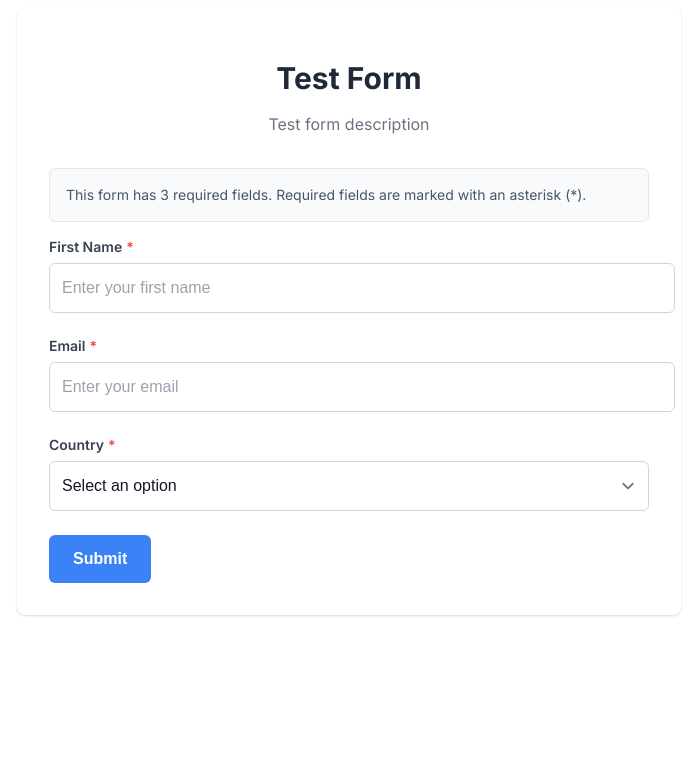
Form Component › shows success message after successful submission
The width and height of the screenshot is (699, 768).
Type "John" into the field labelled "First Name*" at (362, 288), box top-left (49, 263), bottom-right (675, 313)
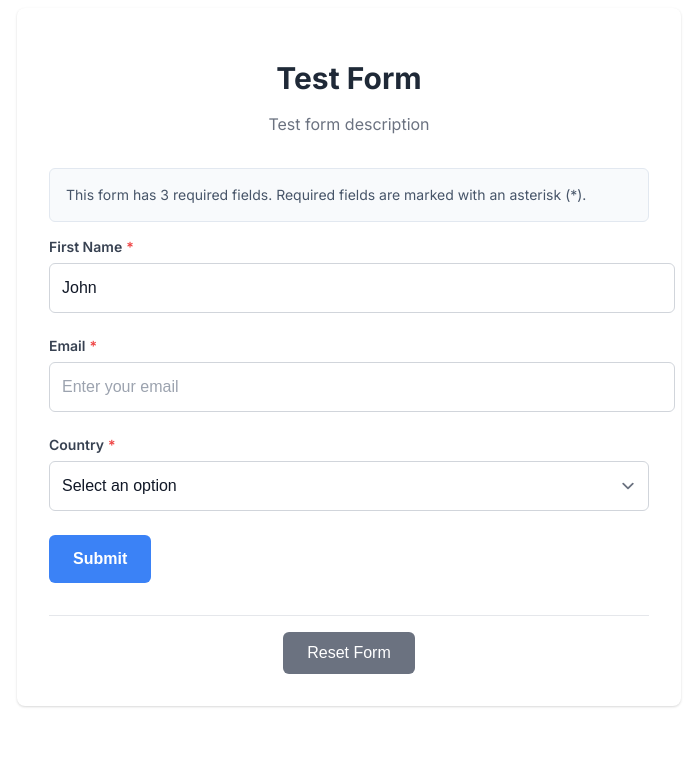
Type "john@example.com" into the field labelled "Email*" at (362, 387), box top-left (49, 362), bottom-right (675, 412)
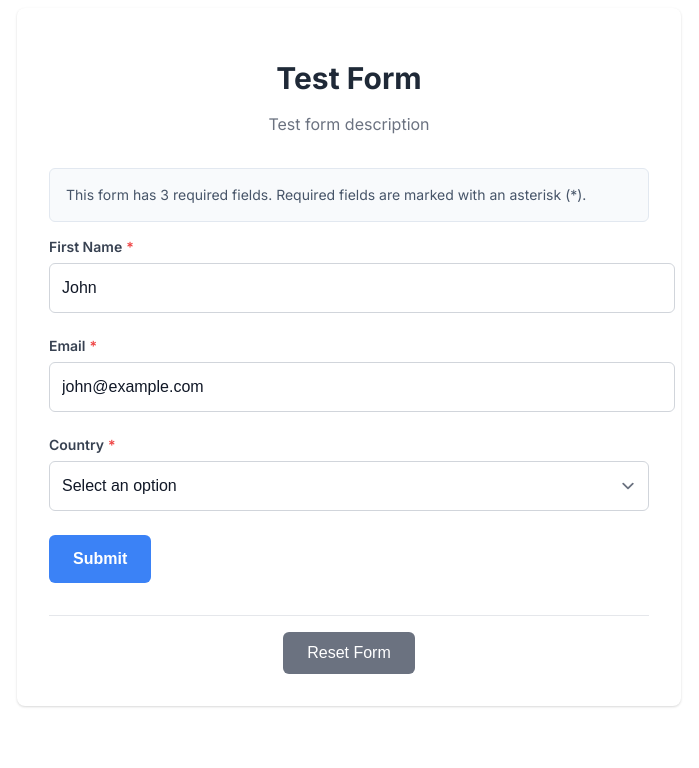
Select "United States" in the dropdown labelled "Country*" at (349, 486), box top-left (49, 461), bottom-right (649, 511)
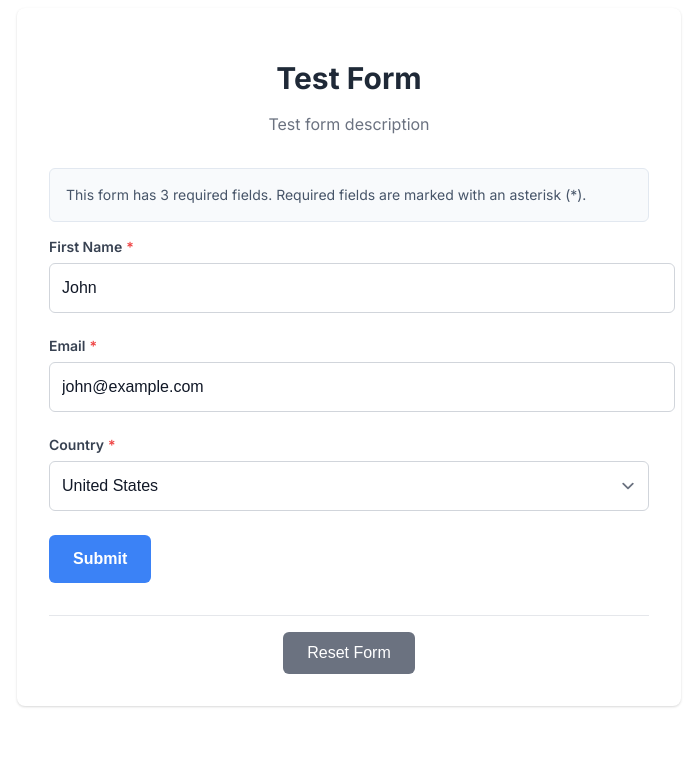
Click the button "Submit" at (100, 559), box top-left (49, 535), bottom-right (151, 583)
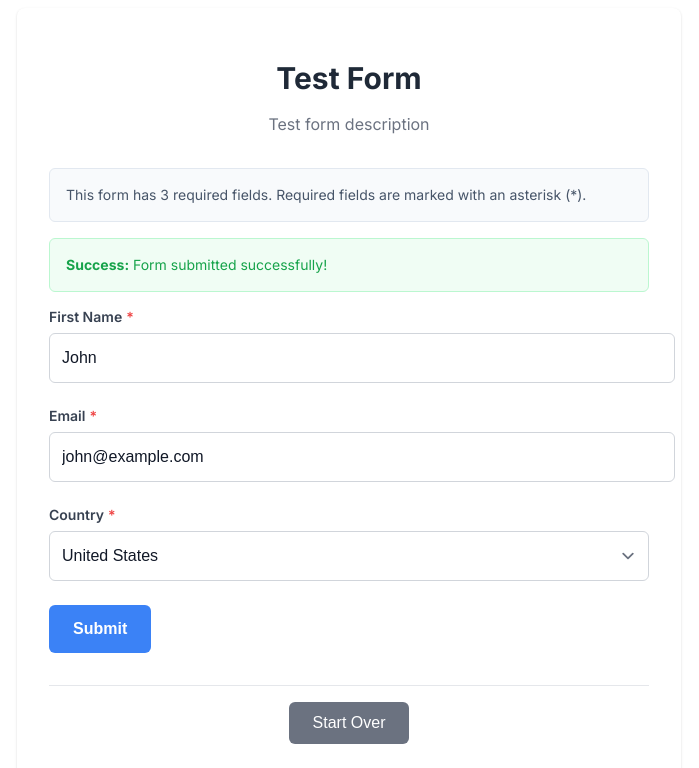
Expected: the text "Form submitted successfully!" is shown, top-left (133, 256), bottom-right (327, 273)
